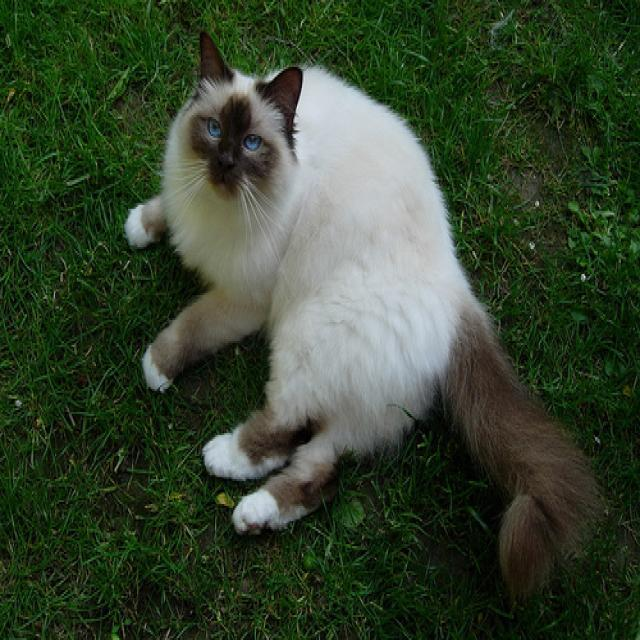Birman: (179, 26, 306, 230)
